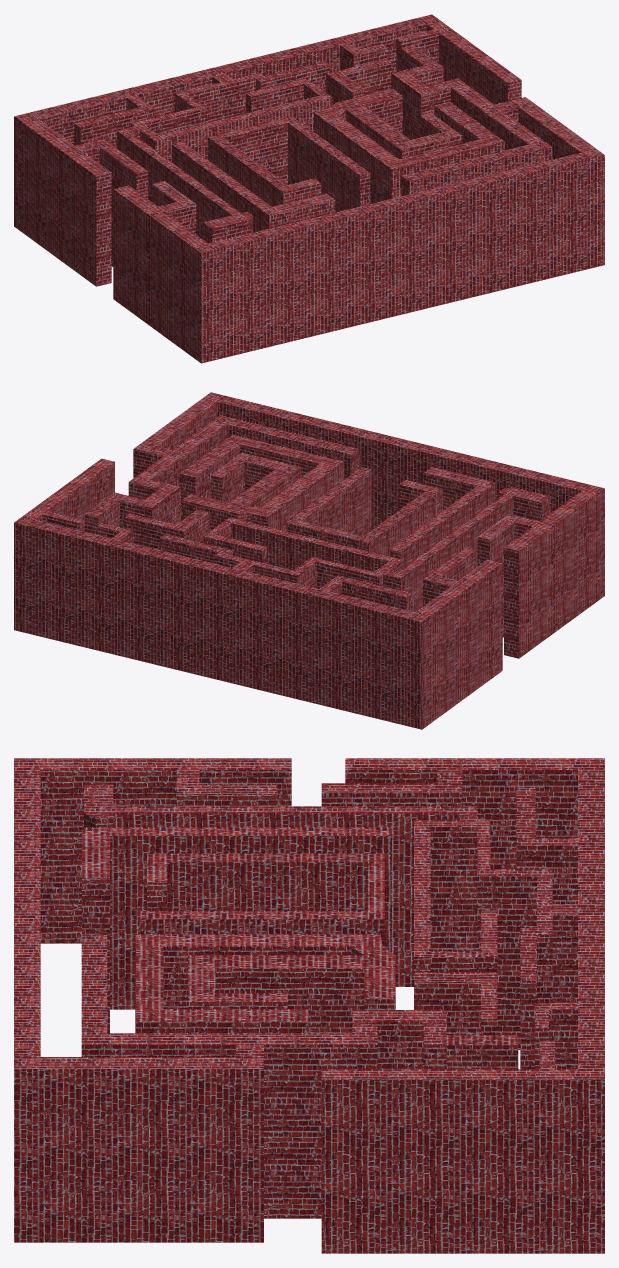
Rendered from cenario2.fbx.
The picture shows the model from 3 angles, top to bottom: view 1: azimuth 30°, elevation 25°; view 2: azimuth 150°, elevation 25°; view 3: azimuth 270°, elevation 25°; orthographic projection. The views are drawn at different scales.
Visible parts, largest first — view 1: Plane; view 2: Plane; view 3: Plane.
Part boxes in pixels (bbox=[...]): Plane: bbox=[14, 14, 604, 363]; Plane: bbox=[14, 392, 604, 729]; Plane: bbox=[14, 758, 604, 1253].
Bounding box in the file's own units: 9.49 × 2.39 × 7.37.
Materials: 1 (1 with a texture image).
